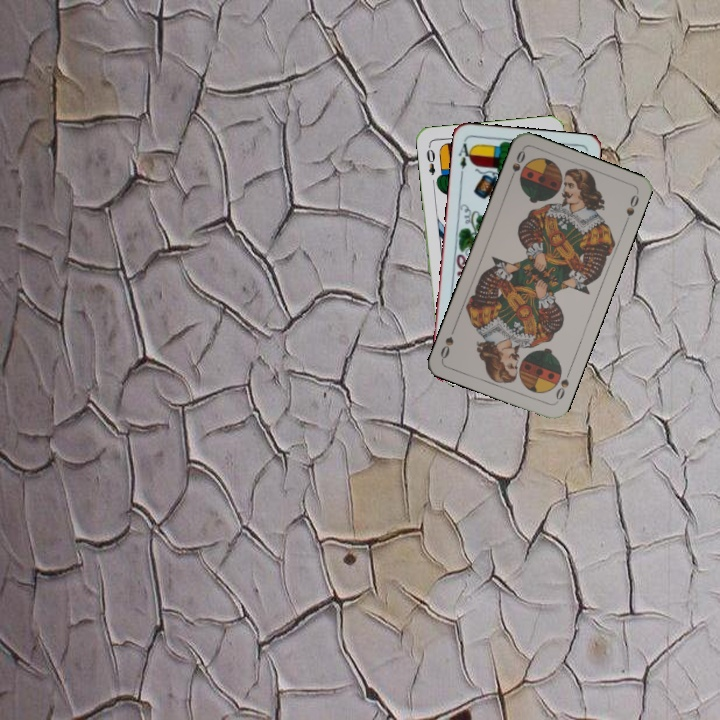EA: (454, 137, 475, 171)
EO: (422, 142, 438, 178)
SO: (505, 146, 528, 185), (552, 366, 573, 405)
